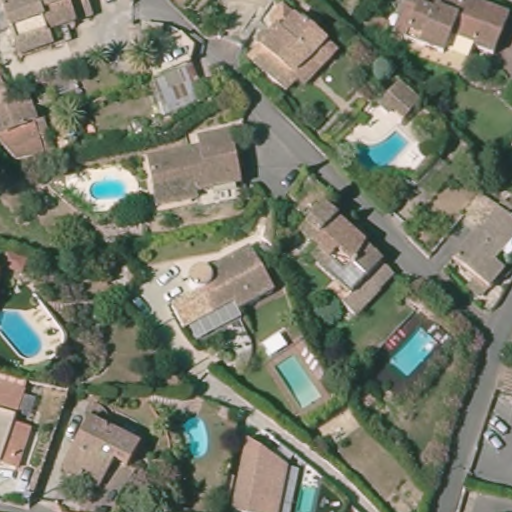pool: (272, 344, 326, 416), (385, 327, 439, 380), (1, 304, 46, 364), (344, 130, 414, 168), (179, 415, 212, 461), (87, 173, 127, 203), (293, 480, 322, 512)
